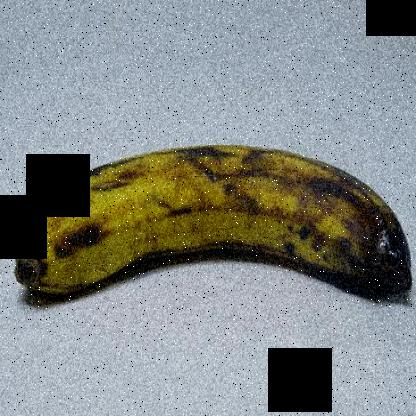overripe: (7, 137, 415, 320)
